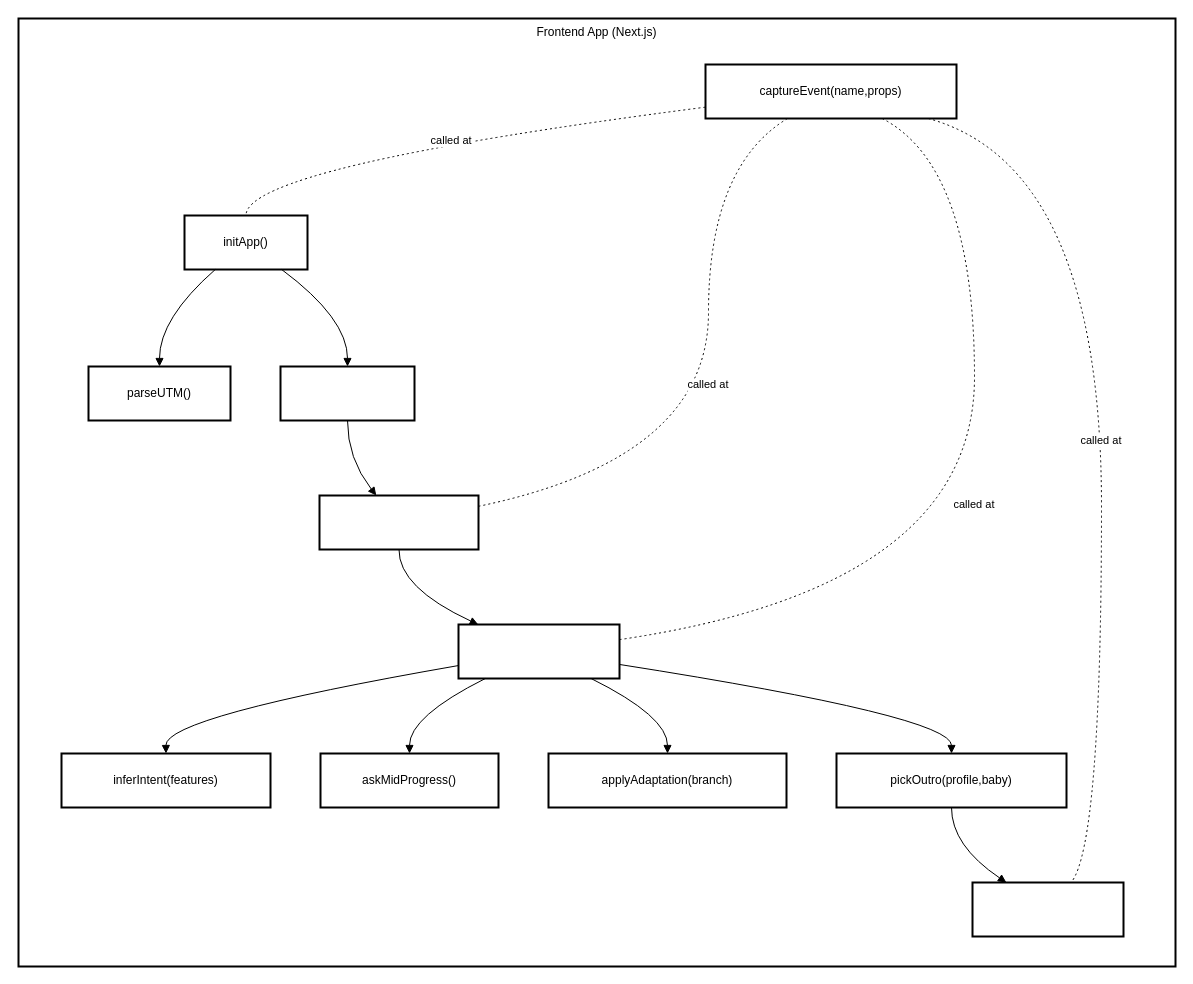
Some shapes in this 1193 by 984 pixel diagram are drawn without their labels. The shapes that lost their labels are listed below. From the top down, each one's box as (x1, y1, x2, y2) in pixels, then its label:
(279, 365, 415, 421): loadQuiz()
(318, 494, 479, 550): onStartClick()
(457, 623, 620, 679): runQuizLoop()
(971, 881, 1124, 937): onCTAClick()
